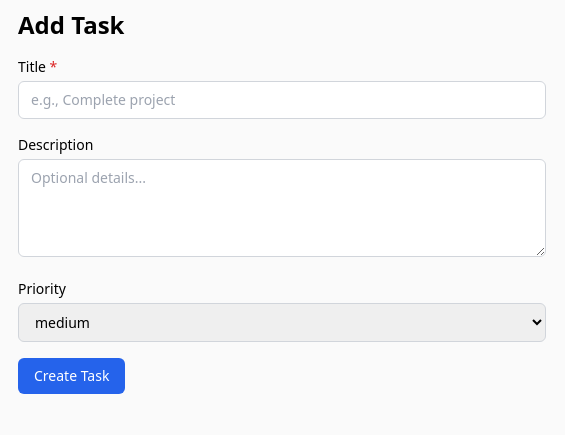
it: requires title
The image size is (565, 435).
Click the button "Create Task".
click(72, 376)  # box [18,358,125,394]
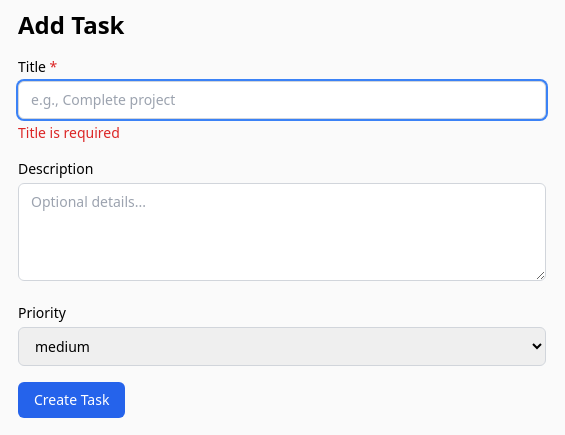
Now the text "Title is required" is shown, box [18,123,120,142]
